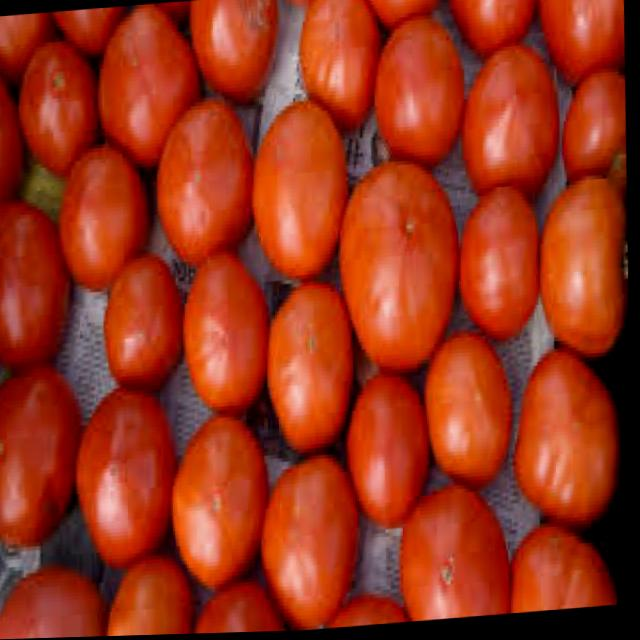tomato: (332, 159, 472, 384), (509, 343, 630, 541), (90, 1, 213, 183), (73, 385, 188, 574), (149, 91, 265, 277), (167, 412, 281, 601), (246, 99, 359, 289), (257, 450, 373, 632), (532, 176, 634, 372), (261, 280, 367, 462), (176, 249, 281, 427), (456, 42, 570, 202), (369, 14, 476, 177), (53, 141, 161, 299), (398, 484, 520, 622), (420, 333, 522, 498), (341, 372, 443, 535), (454, 187, 549, 349), (293, 0, 393, 144), (0, 195, 79, 375), (100, 252, 194, 398), (12, 40, 103, 186), (185, 0, 286, 112), (512, 521, 624, 613), (534, 0, 627, 97), (0, 563, 114, 640), (558, 71, 630, 189), (109, 553, 204, 637), (443, 0, 543, 66), (200, 570, 291, 635), (50, 6, 138, 62), (0, 59, 32, 206), (363, 0, 457, 42), (0, 12, 55, 78)
